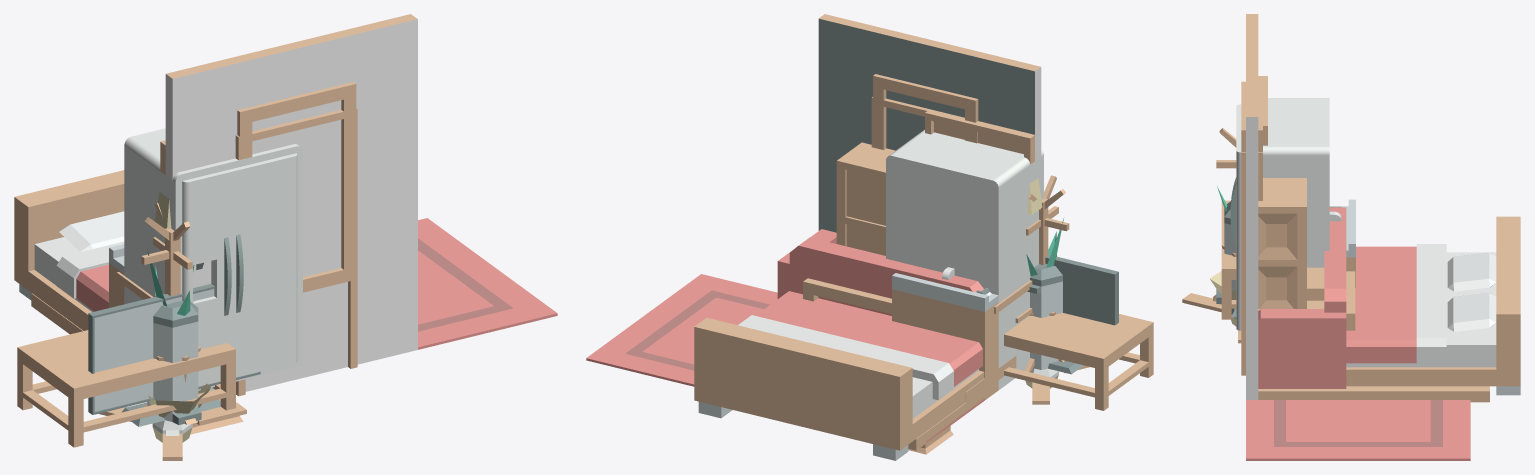
Rendered from room.glb.
3 renders of one model, left to right at view 1: azimuth 30°, elevation 25°; view 2: azimuth 150°, elevation 25°; view 3: azimuth 270°, elevation 25°, orthographic. The views are drawn at different scales.
Visible parts, largest first — view 1: wall(Clone), Mesh wallWindow, doorRight, tableCoffee(Clone), rugRectangle(Clone), wallDoorway(Clone), Mesh kitchenFridgeLarge, Mesh bedDouble, doorLeft, televisionModern(Clone), trashcan(Clone), cover (+6 smaller); view 2: Mesh bedDouble, Mesh kitchenFridgeLarge, wall(Clone), wallDoorway(Clone), cover, rugRectangle(Clone), tableCoffee(Clone), loungeSofa(Clone), bookcaseClosedWide(Clone), Mesh kitchenCabinet, televisionModern(Clone), Mesh wallWindow (+11 smaller); view 3: rugRectangle(Clone), cover, Mesh bedDouble, loungeSofa(Clone), Mesh kitchenFridgeLarge, bookcaseClosedWide(Clone), wall(Clone), floorFull(Clone), pillowLeft, pillowRight, doorRight, wallDoorway(Clone) (+10 smaller).
Boxes of the visible parts, x1,y1,x2,y2 form: wall(Clone): [165, 14, 417, 391]; Mesh wallWindow: [173, 21, 417, 391]; doorRight: [230, 153, 297, 377]; tableCoffee(Clone): [17, 330, 235, 447]; rugRectangle(Clone): [48, 218, 557, 349]; wallDoorway(Clone): [172, 20, 417, 396]; Mesh kitchenFridgeLarge: [124, 128, 302, 390]; Mesh bedDouble: [14, 170, 124, 330]; doorLeft: [182, 169, 232, 386]; televisionModern(Clone): [88, 284, 260, 426]; trashcan(Clone): [147, 294, 201, 424]; cover: [56, 241, 124, 311]; Mesh bedDouble: [694, 318, 984, 460]; Mesh kitchenFridgeLarge: [886, 129, 1043, 389]; wall(Clone): [818, 14, 1041, 232]; wallDoorway(Clone): [818, 19, 1034, 231]; cover: [738, 291, 982, 400]; rugRectangle(Clone): [586, 274, 984, 442]; tableCoffee(Clone): [1004, 313, 1153, 410]; loungeSofa(Clone): [777, 229, 983, 313]; bookcaseClosedWide(Clone): [836, 142, 895, 255]; Mesh kitchenCabinet: [892, 275, 998, 395]; televisionModern(Clone): [1045, 254, 1118, 374]; Mesh wallWindow: [818, 20, 1034, 230]; rugRectangle(Clone): [1246, 400, 1470, 460]; cover: [1346, 244, 1446, 364]; Mesh bedDouble: [1346, 216, 1520, 395]; loungeSofa(Clone): [1258, 238, 1346, 388]; Mesh kitchenFridgeLarge: [1263, 98, 1329, 267]; bookcaseClosedWide(Clone): [1258, 178, 1306, 308]; wall(Clone): [1246, 14, 1258, 399]; floorFull(Clone): [1258, 386, 1489, 402]; pillowLeft: [1447, 252, 1496, 291]; pillowRight: [1447, 292, 1496, 331]; doorRight: [1230, 124, 1241, 330]; wallDoorway(Clone): [1241, 152, 1262, 375].
Size of the model in its own units: 2.03 by 1.56 by 1.39.
